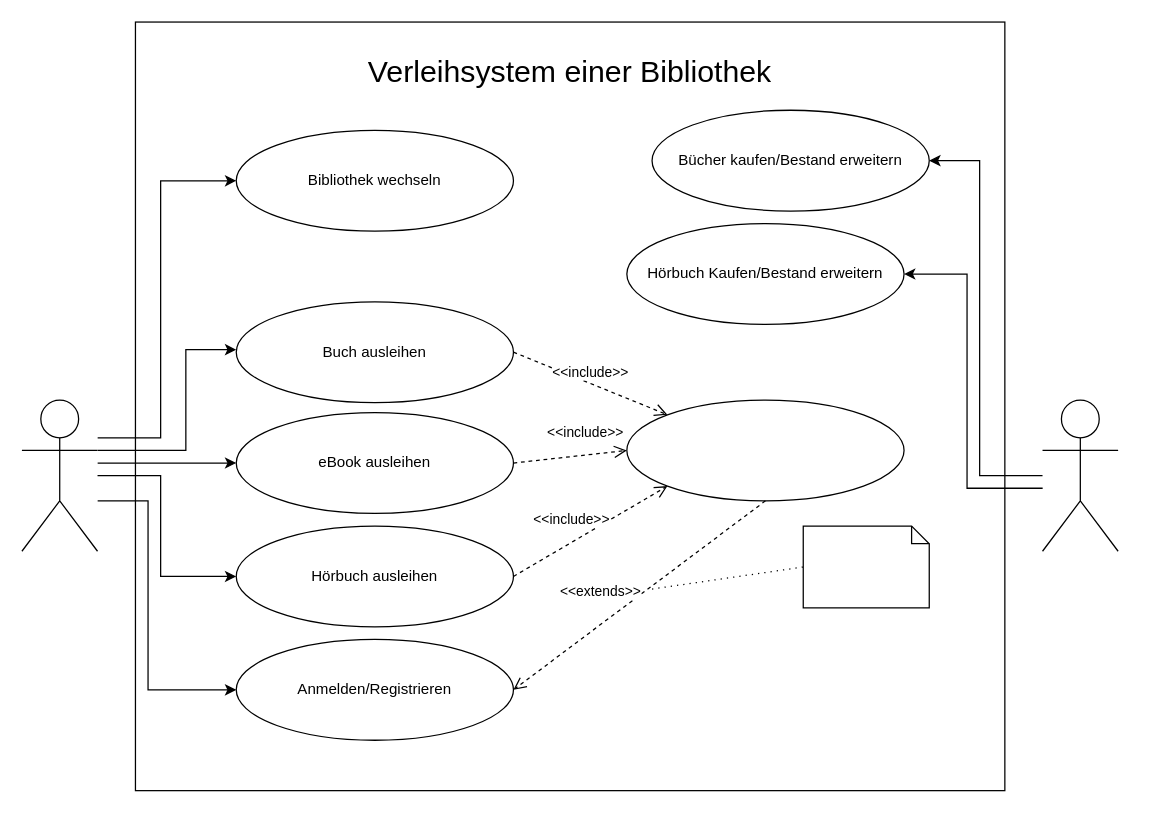
The diagram is 1157 pixels wide and 813 high, and some of its shapes have lost their labels. Each missing label, with the box of its shape:
Bibliothekar/-inn: (1041, 399, 1118, 551)
Der Kunde ist nicht Angemeldet: (802, 525, 929, 608)
Nutzer: (21, 399, 98, 551)
Überprüfen ob Nutzer berechtigt ist für die Leihe (Student, Prof. ect..): (626, 399, 904, 501)
